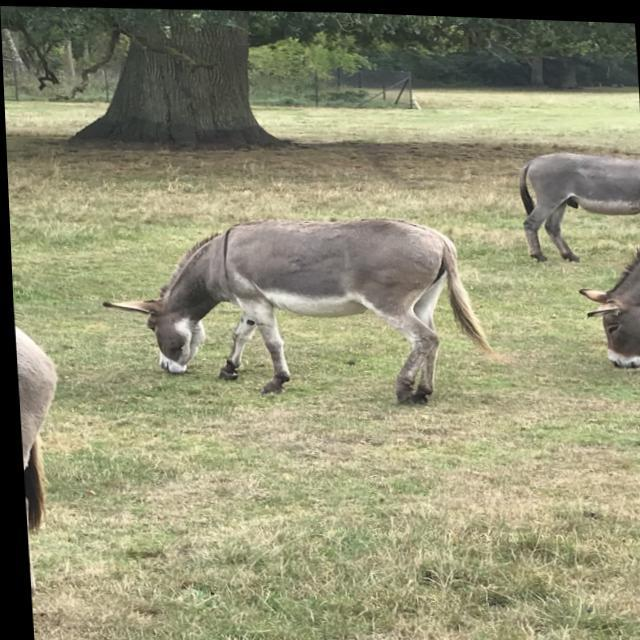Donkey: (91, 202, 496, 412), (12, 322, 68, 600), (513, 143, 640, 262), (570, 208, 640, 366)
